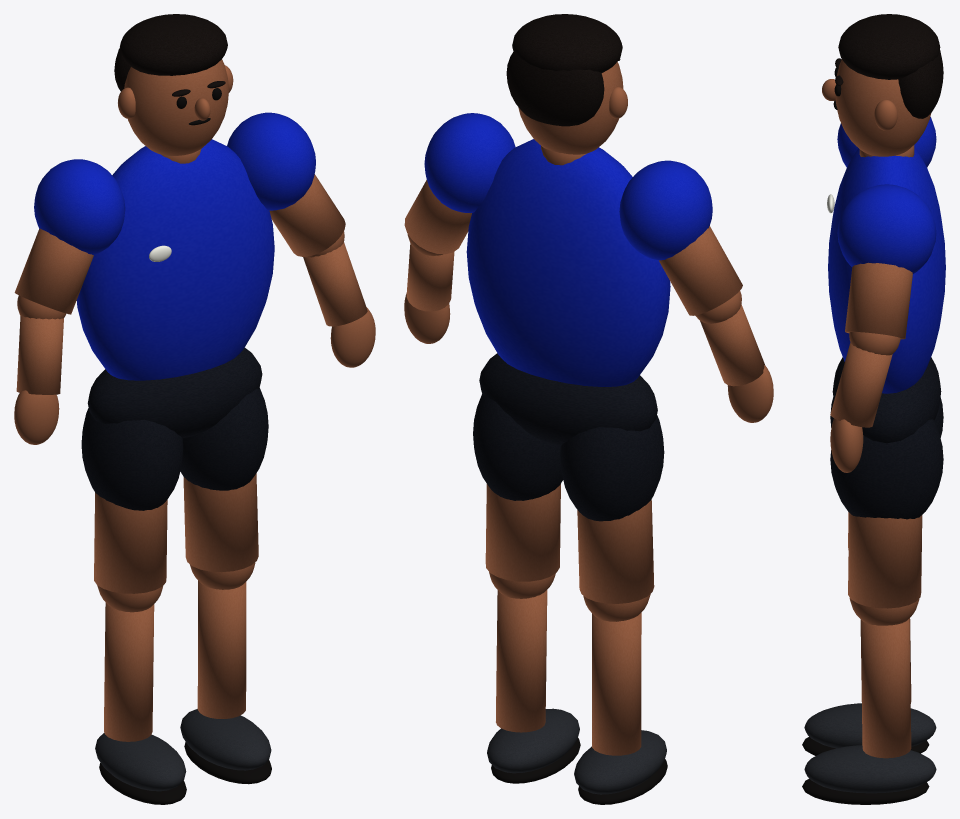
The model's file is jugador_azul.obj.
3 views of the same model, side by side, from view 1: azimuth 30°, elevation 25°; view 2: azimuth 150°, elevation 25°; view 3: azimuth 270°, elevation 25° (orthographic). The views are drawn at different scales.
Parts seen in each view (by area): view 1: Jugador_Azul_Torso_Camiseta, Jugador_Azul_Cintura_Pantalon, Jugador_Azul_Pernera_Izquierda, Jugador_Azul_Hombro_Izquierdo, Jugador_Azul_Cabeza, Jugador_Azul_Pantorrilla_Izquierda, Jugador_Azul_Pantorrilla_Derecha, Jugador_Azul_Muslo_Izquierda, Jugador_Azul_Muslo_Derecha, Jugador_Azul_Hombro_Derecho, Jugador_Azul_Pernera_Derecha, Jugador_Azul_CabelloSuperior (+13 smaller); view 2: Jugador_Azul_Torso_Camiseta, Jugador_Azul_Cintura_Pantalon, Jugador_Azul_Pernera_Izquierda, Jugador_Azul_Hombro_Izquierdo, Jugador_Azul_Pantorrilla_Derecha, Jugador_Azul_Pantorrilla_Izquierda, Jugador_Azul_Muslo_Izquierda, Jugador_Azul_Hombro_Derecho, Jugador_Azul_Muslo_Derecha, Jugador_Azul_Pernera_Derecha, Jugador_Azul_CabelloSuperior, Jugador_Azul_CabelloTrasero (+14 smaller); view 3: Jugador_Azul_Torso_Camiseta, Jugador_Azul_Pernera_Derecha, Jugador_Azul_Hombro_Derecho, Jugador_Azul_Pantorrilla_Derecha, Jugador_Azul_Muslo_Derecha, Jugador_Azul_CabelloSuperior, Jugador_Azul_Cabeza, Jugador_Azul_Zapatilla_Derecha, Jugador_Azul_BrazoSuperior_Derecho, Jugador_Azul_Cintura_Pantalon, Jugador_Azul_Antebrazo_Derecho, Jugador_Azul_Zapatilla_Izquierda (+8 smaller).
Boxes of the visible parts, box(x1,y1,x2,y2) form: Jugador_Azul_Torso_Camiseta: box(76, 139, 274, 380); Jugador_Azul_Cintura_Pantalon: box(87, 348, 262, 438); Jugador_Azul_Pernera_Izquierda: box(81, 408, 183, 510); Jugador_Azul_Hombro_Izquierdo: box(34, 159, 125, 255); Jugador_Azul_Cabeza: box(124, 59, 228, 155); Jugador_Azul_Pantorrilla_Izquierda: box(104, 603, 154, 741); Jugador_Azul_Pantorrilla_Derecha: box(197, 580, 246, 718); Jugador_Azul_Muslo_Izquierda: box(94, 492, 167, 593); Jugador_Azul_Muslo_Derecha: box(183, 473, 258, 572); Jugador_Azul_Hombro_Derecho: box(227, 112, 315, 210); Jugador_Azul_Pernera_Derecha: box(180, 387, 268, 490); Jugador_Azul_CabelloSuperior: box(120, 14, 227, 75); Jugador_Azul_Torso_Camiseta: box(466, 139, 670, 386); Jugador_Azul_Cintura_Pantalon: box(479, 353, 657, 445); Jugador_Azul_Pernera_Izquierda: box(560, 415, 664, 521); Jugador_Azul_Hombro_Izquierdo: box(619, 160, 712, 260); Jugador_Azul_Pantorrilla_Derecha: box(496, 590, 547, 732); Jugador_Azul_Pantorrilla_Izquierda: box(592, 612, 641, 755); Jugador_Azul_Muslo_Izquierda: box(577, 499, 654, 603); Jugador_Azul_Hombro_Derecho: box(424, 113, 515, 213); Jugador_Azul_Muslo_Derecha: box(485, 484, 560, 581); Jugador_Azul_Pernera_Derecha: box(473, 394, 563, 500); Jugador_Azul_CabelloSuperior: box(512, 14, 622, 73); Jugador_Azul_CabelloTrasero: box(506, 51, 604, 126); Jugador_Azul_Torso_Camiseta: box(828, 147, 945, 393); Jugador_Azul_Pernera_Derecha: box(830, 419, 943, 519); Jugador_Azul_Hombro_Derecho: box(837, 184, 936, 273); Jugador_Azul_Pantorrilla_Derecha: box(860, 619, 911, 758); Jugador_Azul_Muslo_Derecha: box(848, 512, 922, 608); Jugador_Azul_CabelloSuperior: box(838, 14, 940, 79); Jugador_Azul_Cabeza: box(835, 59, 931, 156); Jugador_Azul_Zapatilla_Derecha: box(804, 745, 936, 793); Jugador_Azul_BrazoSuperior_Derecho: box(845, 262, 912, 339); Jugador_Azul_Cintura_Pantalon: box(832, 357, 941, 443); Jugador_Azul_Antebrazo_Derecho: box(830, 342, 892, 427); Jugador_Azul_Zapatilla_Izquierda: box(804, 703, 936, 748).
Bounding box in the file's own units: 0.884 × 1.76 × 0.305.
7 materials, 5 textured.
